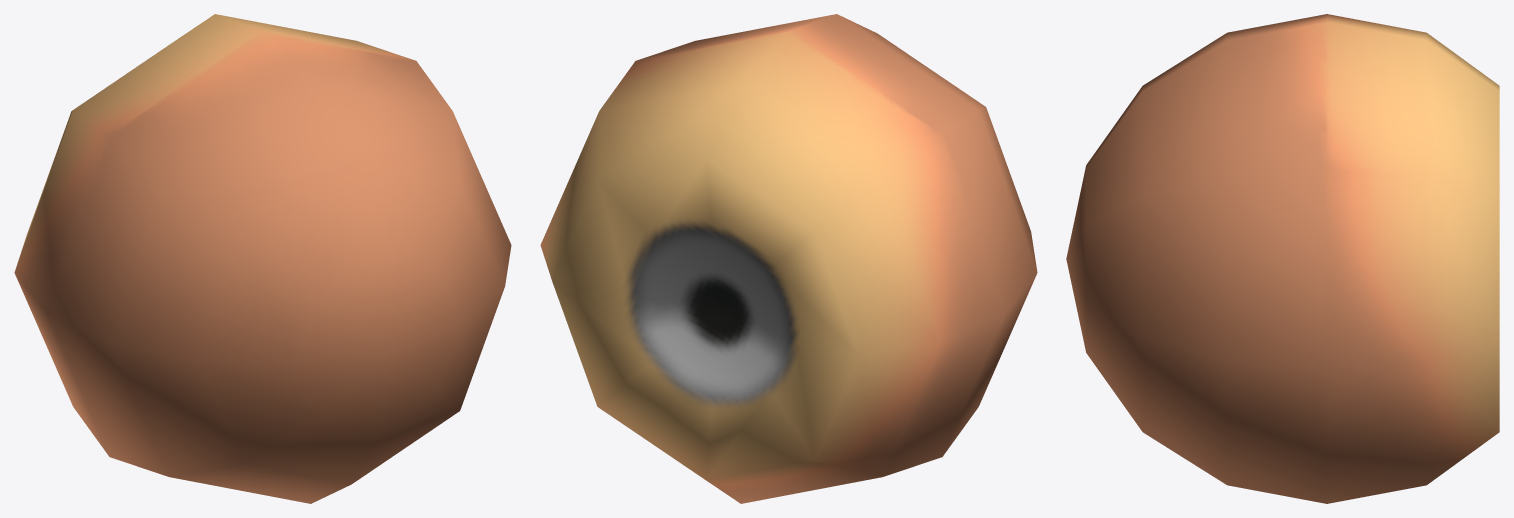
File: geo_BigEye_02.fbx
The picture shows the model from 3 angles, left to right: view 1: azimuth 30°, elevation 25°; view 2: azimuth 150°, elevation 25°; view 3: azimuth 270°, elevation 25°; orthographic projection. The views are drawn at different scales.
Parts seen in each view (by area): view 1: geo_BigEye_02; view 2: geo_BigEye_02; view 3: geo_BigEye_02.
Boxes of the visible parts, x1,y1,x2,y2 form: geo_BigEye_02: (14,14,511,503); geo_BigEye_02: (540,14,1037,503); geo_BigEye_02: (1066,14,1499,503).
Bounding box in the file's own units: 57.52 × 57.52 × 47.81.
1 material, 1 textured.
